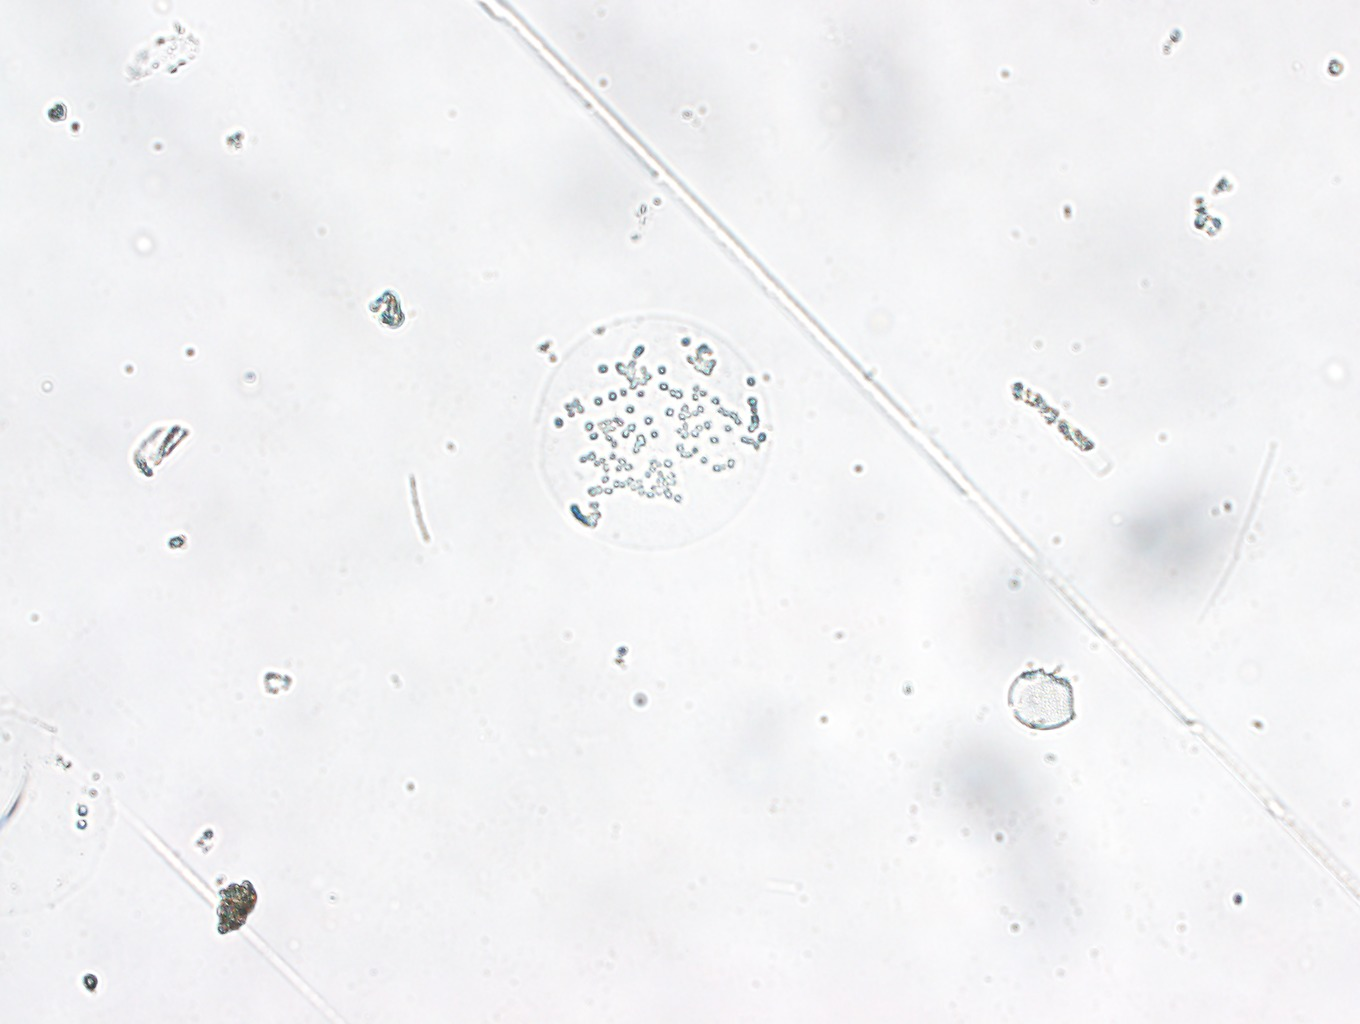coscinodiscus: (536, 313, 774, 553)
